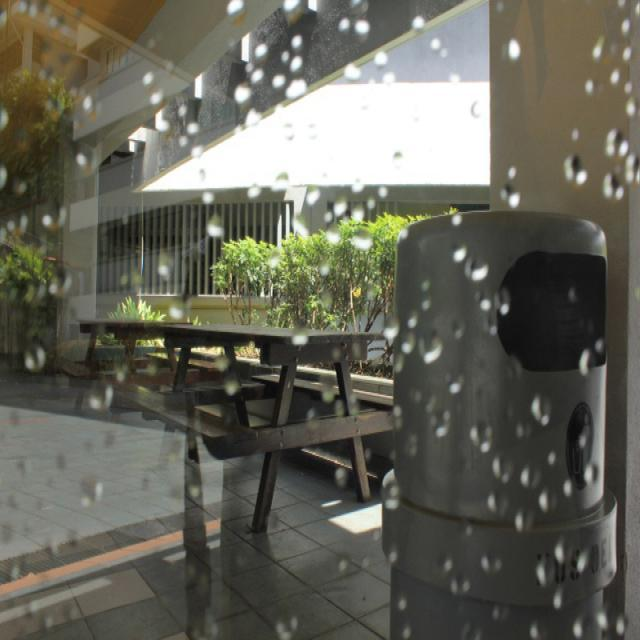raindrop: (172, 610, 222, 640), (566, 541, 596, 587), (19, 340, 51, 383), (259, 609, 301, 640), (472, 488, 508, 522), (85, 374, 114, 416), (375, 469, 402, 510), (530, 386, 554, 432), (444, 572, 473, 610), (462, 421, 494, 454), (42, 267, 72, 301), (543, 579, 570, 616), (41, 196, 68, 232), (563, 156, 595, 186), (417, 332, 442, 370), (498, 167, 520, 210), (604, 130, 630, 165), (316, 467, 348, 495), (571, 411, 595, 448), (528, 487, 556, 518), (536, 552, 560, 588), (194, 216, 227, 242), (605, 170, 624, 214), (12, 522, 38, 554), (79, 475, 105, 507), (509, 506, 526, 554), (502, 357, 524, 394), (458, 258, 489, 284), (318, 370, 338, 410), (221, 0, 263, 19), (439, 370, 472, 394), (295, 183, 324, 210), (71, 88, 95, 120), (460, 613, 488, 640), (290, 214, 315, 244), (372, 546, 399, 573), (232, 80, 254, 113), (438, 72, 462, 102), (491, 450, 512, 484), (506, 35, 528, 67), (605, 613, 631, 640), (350, 228, 375, 256), (338, 56, 363, 83), (380, 316, 404, 344), (590, 38, 612, 68), (521, 617, 549, 640), (540, 444, 560, 476), (480, 547, 506, 571), (396, 329, 416, 360), (342, 104, 370, 126), (112, 354, 130, 388), (222, 377, 246, 402), (294, 322, 314, 352), (214, 354, 237, 380), (396, 617, 422, 640), (621, 158, 640, 189), (494, 290, 518, 314), (387, 400, 405, 432), (518, 460, 540, 486), (434, 548, 456, 574), (440, 243, 467, 264), (402, 386, 422, 414), (581, 464, 601, 492), (283, 78, 308, 100), (164, 438, 185, 464), (464, 97, 484, 124), (306, 410, 321, 446), (578, 344, 593, 380), (342, 387, 361, 415), (80, 438, 104, 460), (308, 290, 332, 312), (488, 610, 512, 632), (558, 473, 576, 502), (361, 530, 382, 554), (393, 588, 414, 612), (10, 174, 30, 199), (268, 173, 288, 198), (142, 477, 158, 508), (554, 533, 570, 564), (168, 302, 190, 324), (406, 10, 428, 32), (593, 608, 613, 632), (0, 104, 17, 132), (154, 107, 171, 135), (190, 574, 207, 602), (118, 196, 132, 229), (159, 254, 178, 278), (267, 70, 286, 94), (387, 144, 403, 172), (590, 335, 606, 363), (449, 317, 470, 338), (371, 48, 391, 70), (302, 120, 320, 144), (416, 292, 434, 316), (566, 613, 582, 640), (134, 382, 151, 407), (49, 453, 70, 473), (73, 148, 94, 168), (7, 410, 26, 432), (11, 458, 27, 484), (331, 342, 348, 366), (510, 422, 530, 442), (472, 294, 494, 312), (390, 350, 408, 372), (330, 399, 348, 421), (18, 210, 32, 238), (248, 178, 262, 206), (324, 225, 341, 248), (311, 92, 328, 115), (618, 16, 634, 40), (447, 212, 466, 232), (46, 27, 73, 41), (351, 206, 368, 228), (500, 403, 514, 429), (570, 126, 585, 150), (381, 71, 398, 92), (182, 146, 204, 162), (580, 83, 602, 99), (488, 316, 504, 338), (436, 412, 452, 434), (266, 251, 280, 276), (625, 95, 640, 118), (247, 66, 264, 86), (42, 611, 56, 635), (280, 122, 294, 146), (569, 286, 581, 314), (233, 549, 249, 570), (344, 0, 374, 11), (104, 434, 120, 454), (356, 19, 372, 39), (319, 258, 332, 282), (333, 196, 345, 222), (0, 164, 10, 195), (622, 46, 636, 68), (186, 121, 204, 138), (286, 54, 302, 73), (416, 276, 431, 296), (130, 270, 144, 291), (614, 68, 626, 92), (406, 310, 419, 332), (5, 564, 20, 583), (66, 530, 80, 550), (144, 360, 164, 374), (186, 174, 206, 188), (348, 174, 360, 197), (7, 491, 20, 512), (197, 190, 218, 203), (45, 17, 63, 32), (26, 599, 40, 618), (141, 70, 155, 89), (49, 540, 60, 564), (192, 476, 203, 500), (339, 555, 352, 575), (252, 46, 270, 60), (426, 393, 436, 418), (152, 89, 164, 109), (366, 196, 378, 216), (294, 30, 306, 50), (362, 443, 374, 463), (0, 225, 10, 247), (367, 81, 378, 101), (354, 342, 364, 364), (0, 4, 8, 31), (240, 60, 258, 72), (336, 20, 348, 38), (25, 4, 36, 23), (430, 36, 440, 56), (174, 105, 188, 119), (172, 491, 187, 504), (16, 0, 28, 16), (40, 0, 52, 16), (116, 273, 132, 285), (1, 526, 12, 543), (280, 0, 302, 8), (280, 44, 288, 66), (320, 209, 330, 226), (378, 185, 389, 200), (9, 215, 17, 235), (176, 134, 186, 150), (623, 80, 635, 93), (632, 0, 640, 18), (495, 0, 503, 17), (442, 50, 448, 63), (617, 0, 630, 5)
